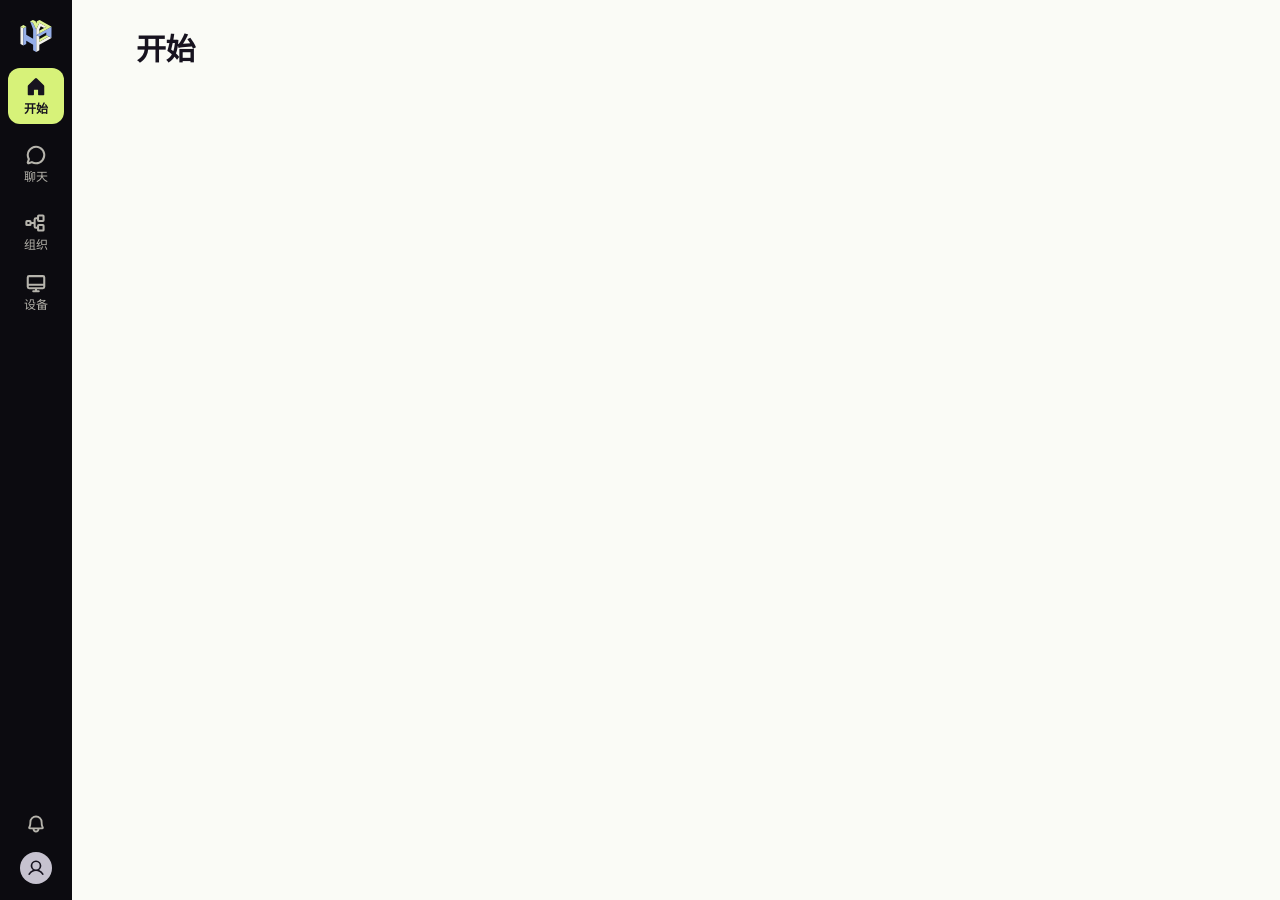
org lifecycle page wiring › creates from the shared dialog and shows the refreshed owner row
The width and height of the screenshot is (1280, 900).
Click the button "组织" at (36, 232), box top-left (8, 204), bottom-right (64, 260)
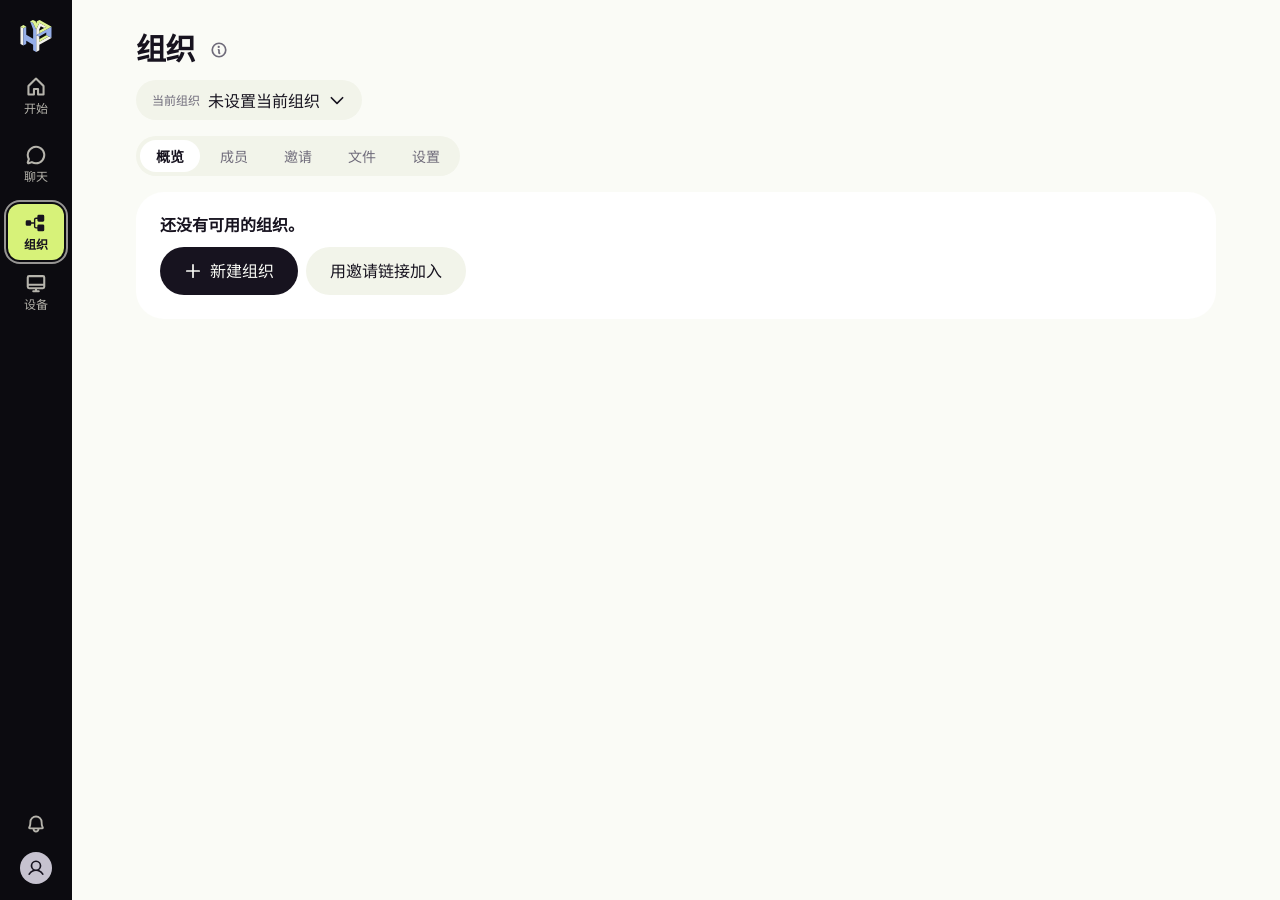
Now the text "还没有可用的组织。" is shown, box top-left (160, 216), bottom-right (304, 235)
Click the button "新建组织" at (229, 271), box top-left (160, 247), bottom-right (298, 295)
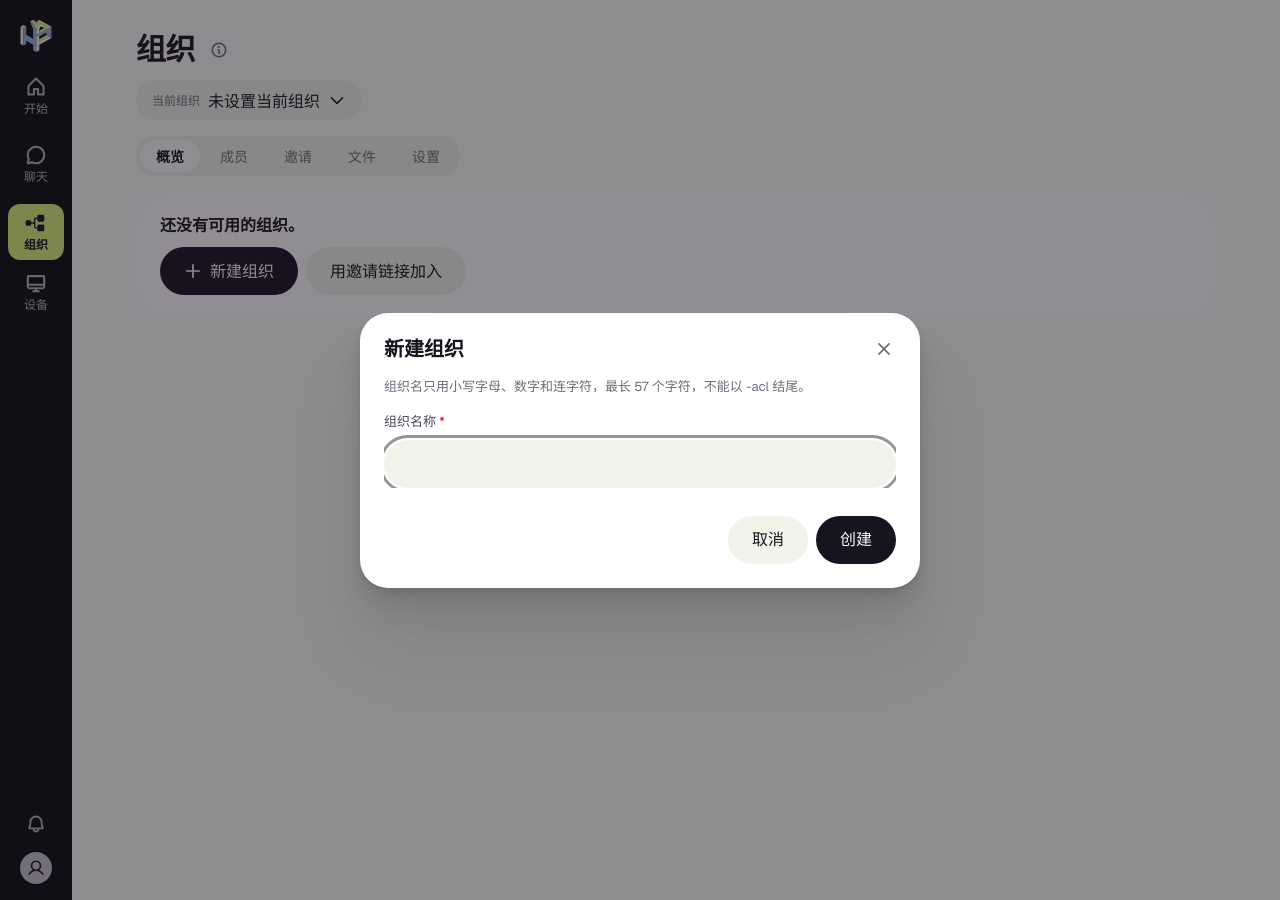
Type "design" into the field labelled "组织名称 *" at (640, 464), box top-left (384, 440), bottom-right (896, 488)
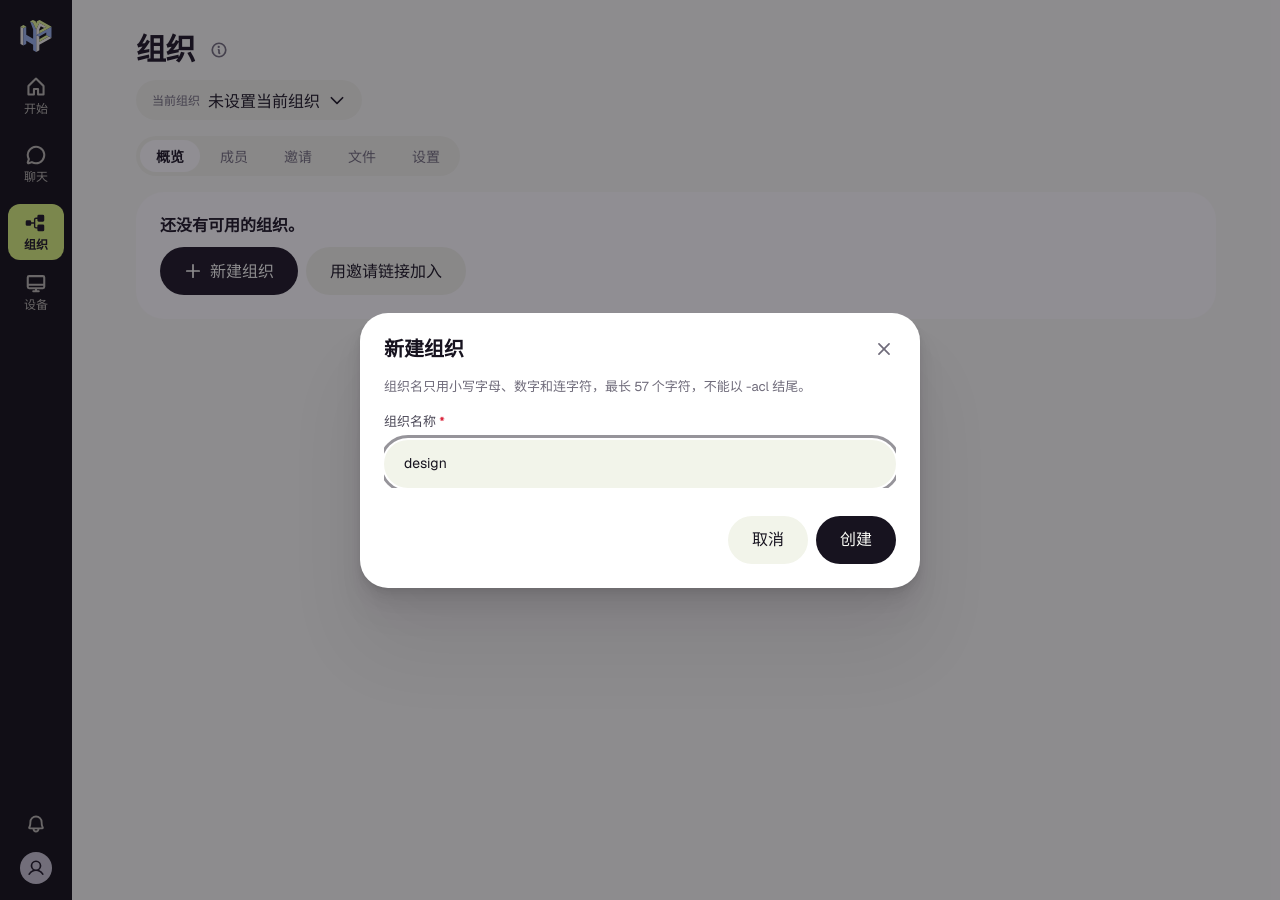
Click the button "创建" at (856, 540), box top-left (816, 516), bottom-right (896, 564)
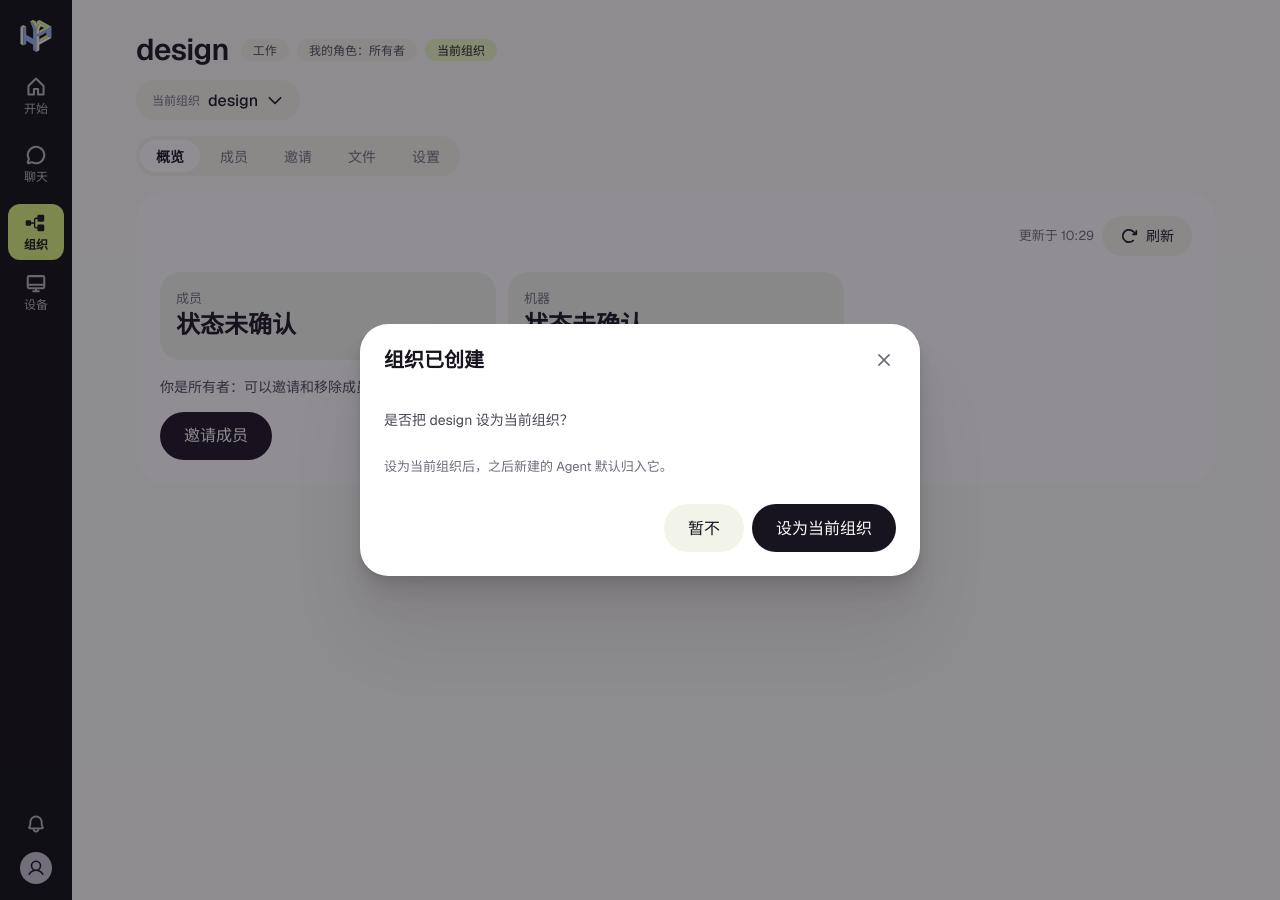
Now the dialog "组织已创建" is shown, box top-left (360, 324), bottom-right (920, 576)
